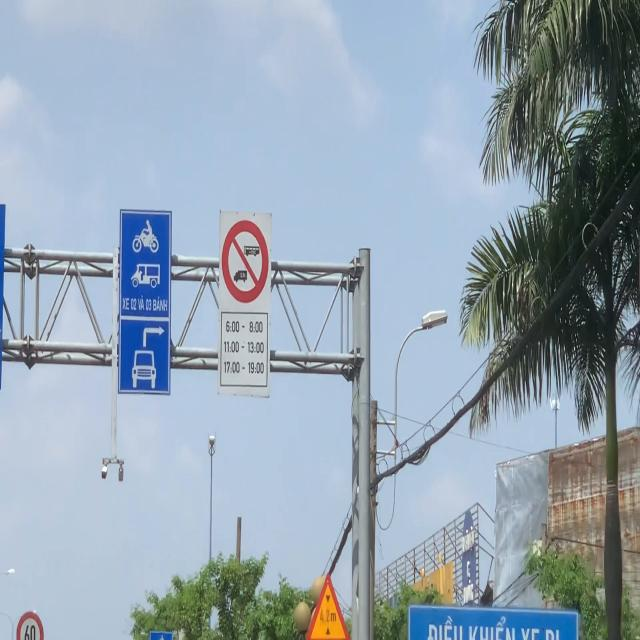Nguy hiem: (303, 569, 353, 640)
